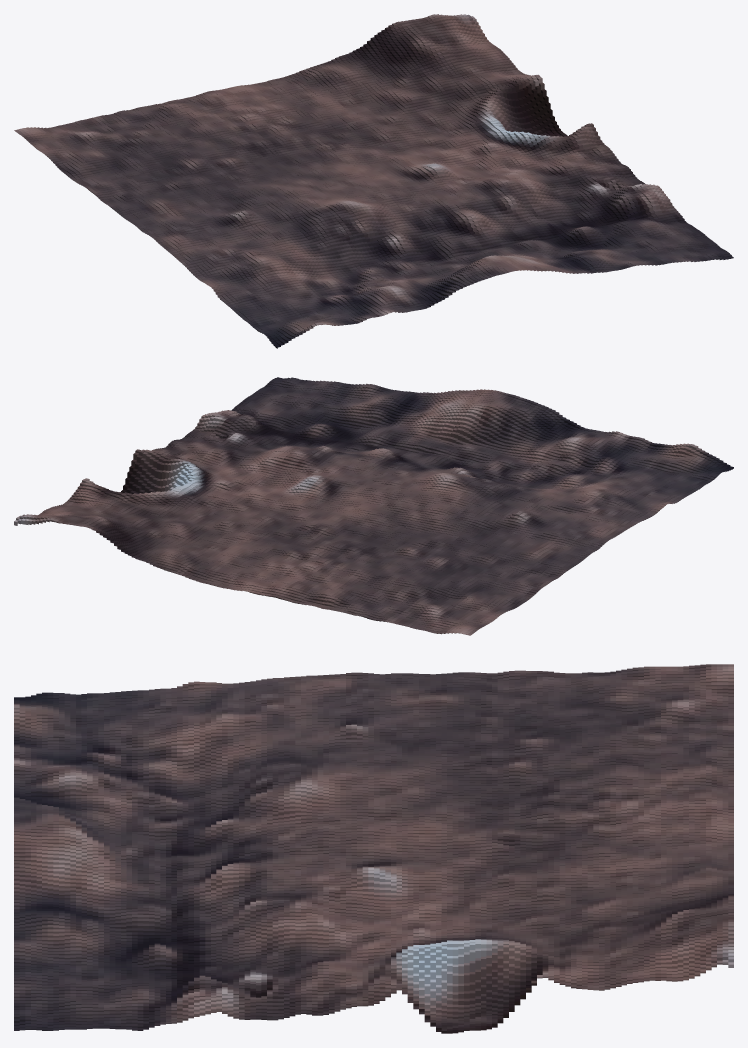
Rendered from chunk-18.glb.
The picture shows the model from 3 angles, top to bottom: view 1: azimuth 30°, elevation 25°; view 2: azimuth 150°, elevation 25°; view 3: azimuth 270°, elevation 25°; orthographic projection. The views are drawn at different scales.
Visible parts, largest first — view 1: Mesh_0.034; view 2: Mesh_0.034; view 3: Mesh_0.034.
Part boxes in pixels (left/top/right/bottom): Mesh_0.034: left=14, top=14, right=733, bottom=348; Mesh_0.034: left=14, top=377, right=733, bottom=635; Mesh_0.034: left=14, top=664, right=733, bottom=1033.
Size of the model in its own units: 32000 by 4638 by 32000.
